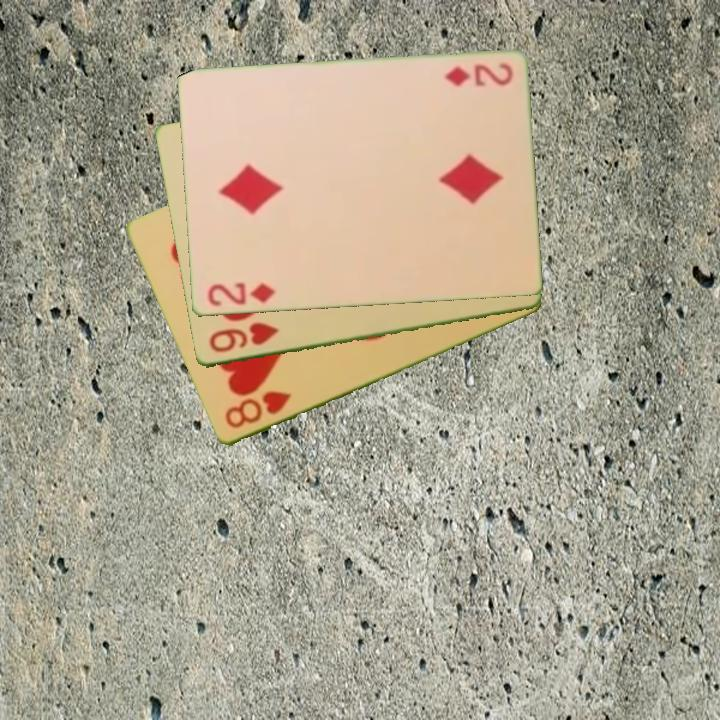2d: (441, 59, 515, 90), (203, 279, 278, 309)
8h: (221, 388, 295, 433)
9h: (205, 319, 282, 356)
